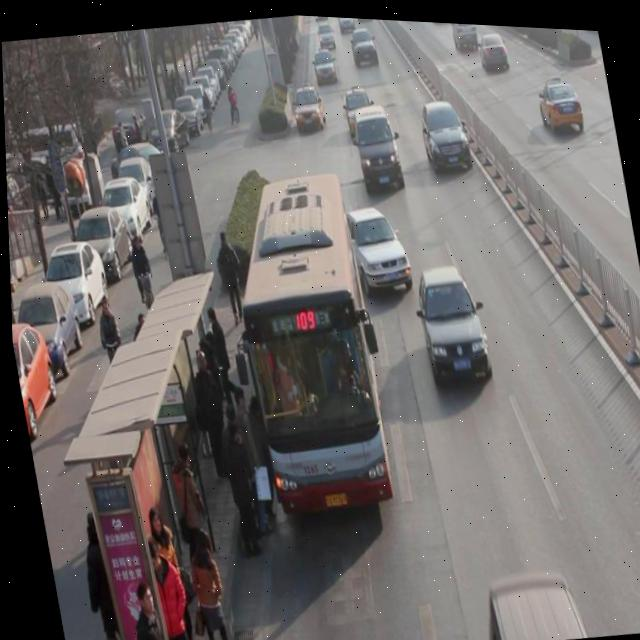car: (409, 257, 492, 384), (339, 197, 413, 293), (417, 92, 473, 172), (534, 68, 586, 132), (340, 78, 378, 136), (290, 77, 327, 132), (477, 23, 511, 69), (349, 21, 380, 65), (311, 42, 338, 83), (317, 18, 336, 45)
truck: (350, 99, 405, 190), (449, 18, 480, 46)
van: (216, 162, 391, 509)
